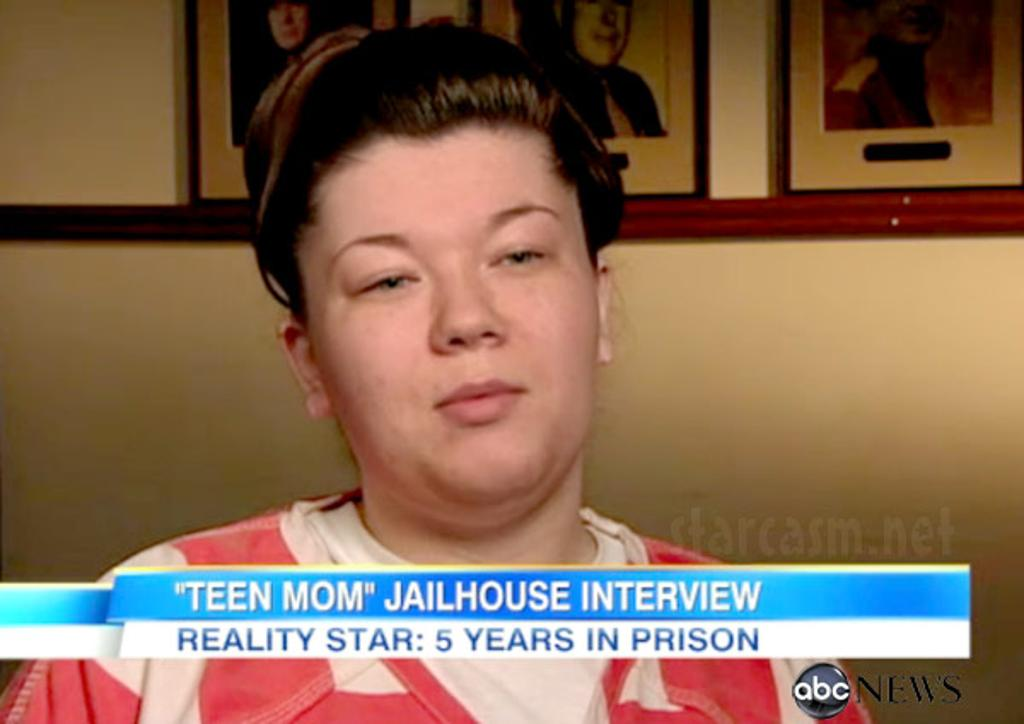face: (304, 124, 598, 506)
